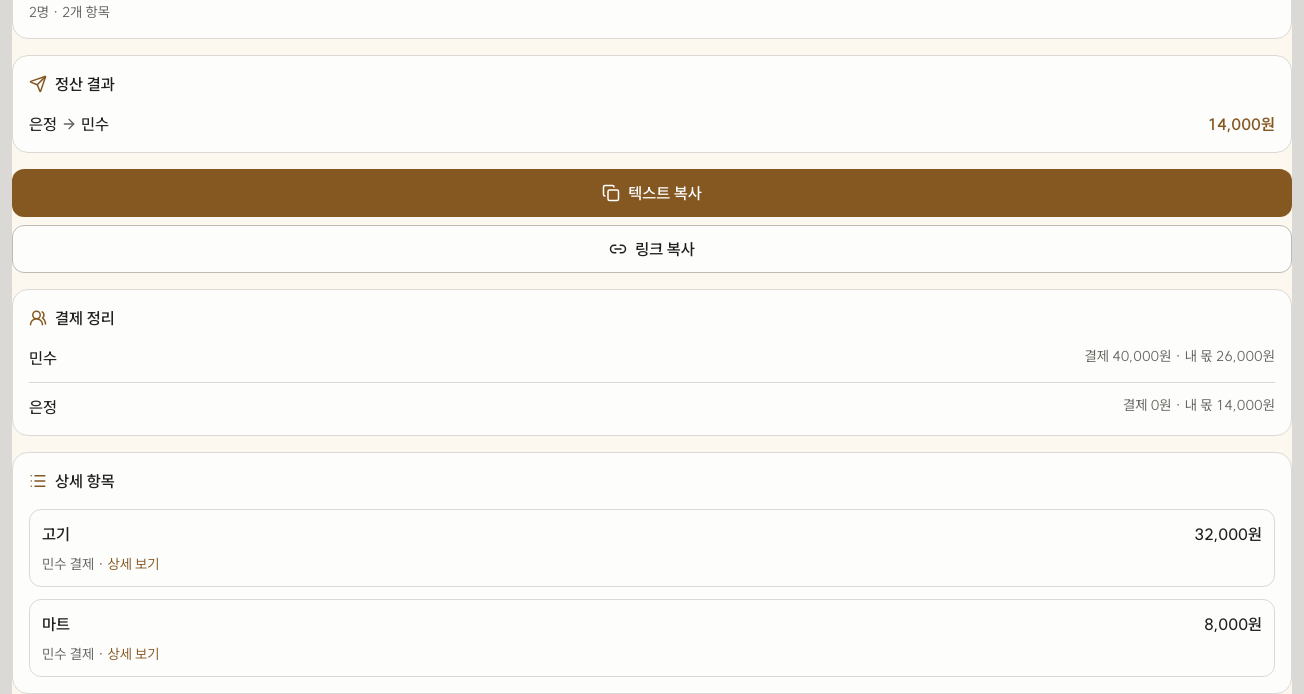
Scenario: ResultSection › 상세 항목을 독립적으로 열고 키보드로 닫을 수 있다
(page scrolled)
Click the button "고기 32,000원 민수 결제 · 상세 보기" at point(1228, 534), box [42, 522, 1262, 574]
(page scrolled)
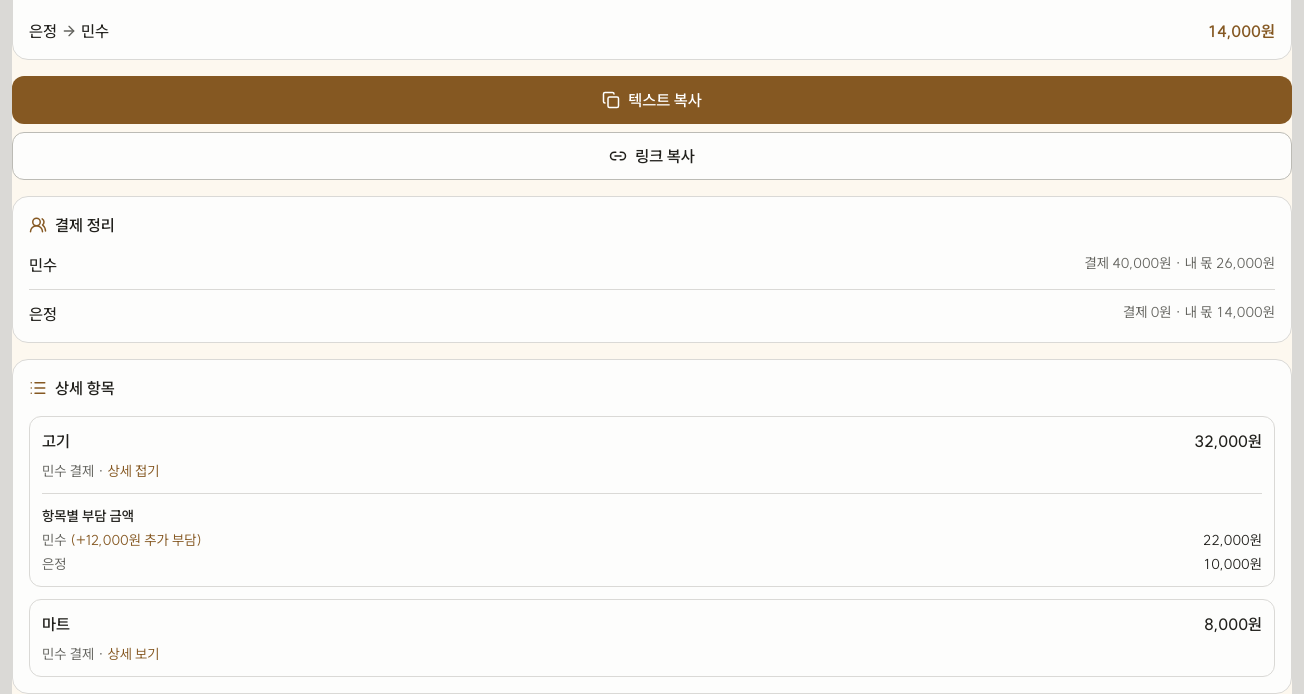
Result: the button "고기 32,000원 민수 결제 · 상세 접기" is expanded at [42, 429, 1262, 481]
Type keys " "
(page scrolled)
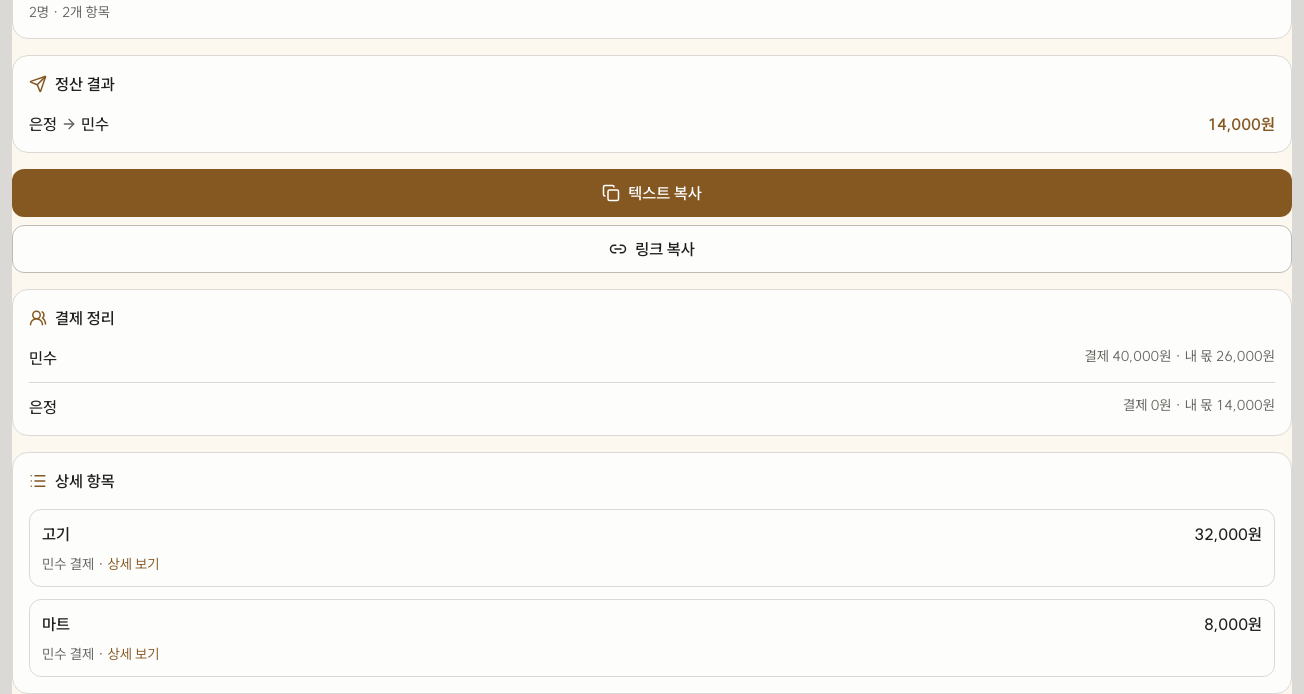
Result: the button "고기 32,000원 민수 결제 · 상세 보기" is collapsed at [42, 522, 1262, 574]
